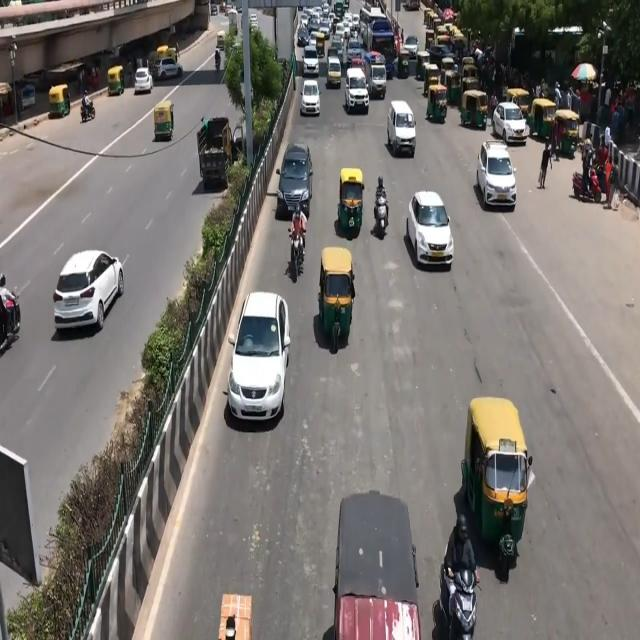Bike: (289, 206, 317, 292)
Scooty: (438, 508, 480, 640), (370, 171, 394, 253)
